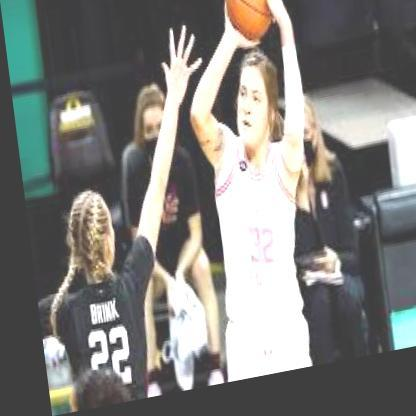basketball: (220, 0, 278, 56)
